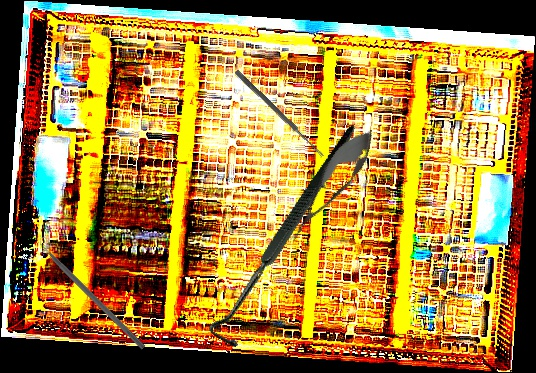Chopper: (33, 231, 152, 350)
Hook Surgical: (155, 124, 421, 355)
Micro Scissor: (278, 119, 384, 251)
Surgical Spoon: (233, 69, 326, 159)
